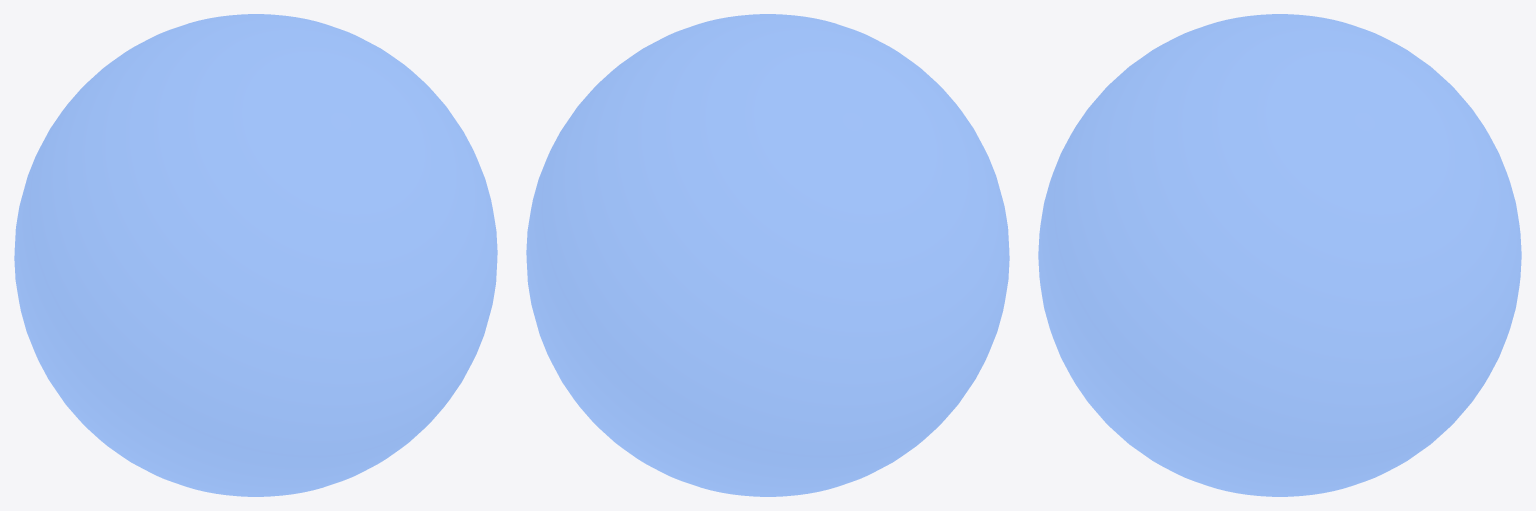
File: globe.glb
3 renders of one model, left to right at view 1: azimuth 30°, elevation 25°; view 2: azimuth 150°, elevation 25°; view 3: azimuth 270°, elevation 25°, orthographic.
Visible parts, largest first — view 1: Atmosphere; view 2: Atmosphere; view 3: Atmosphere.
Part boxes in pixels (box(x1,y1,x2,y2)): Atmosphere: box(14, 14, 497, 496); Atmosphere: box(526, 14, 1009, 496); Atmosphere: box(1038, 14, 1521, 496).
Size of the model in its own units: 2.08 by 2.08 by 2.08.
